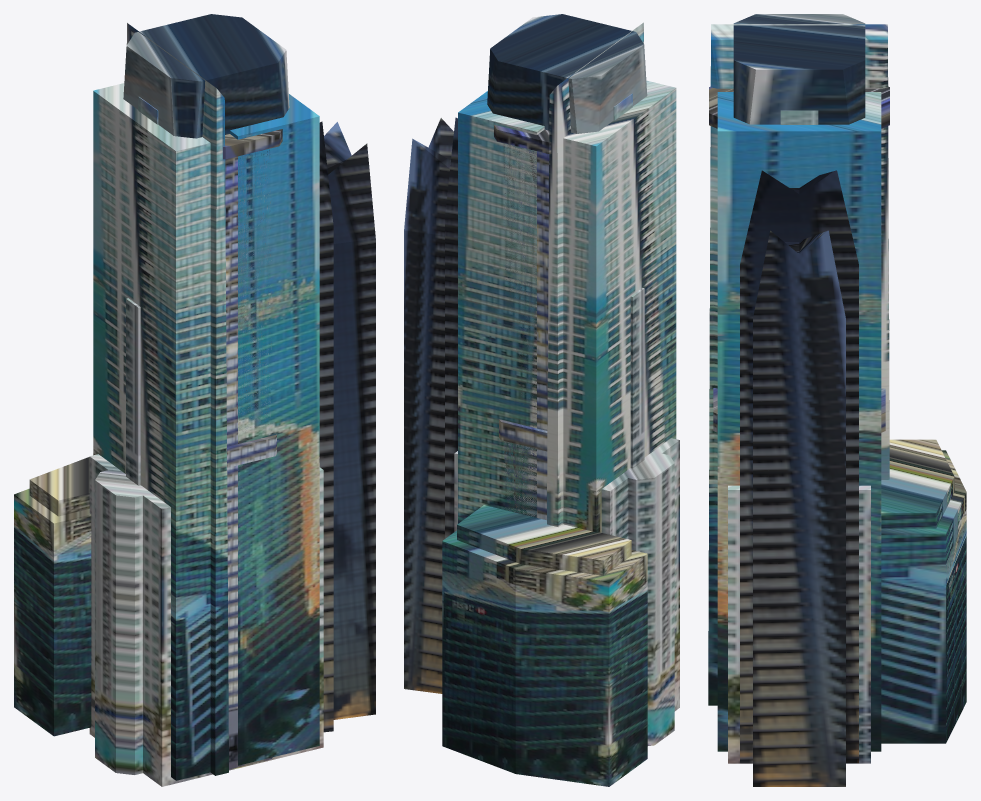
Rendered from bldg.fbx.
3 renders of one model, left to right at view 1: azimuth 30°, elevation 25°; view 2: azimuth 150°, elevation 25°; view 3: azimuth 270°, elevation 25°, orthographic. The views are drawn at different scales.
Visible parts, largest first — view 1: fourseasons_low, sydney_low, vizcayne_low, museum_low, panotower_low; view 2: fourseasons_low, sydney_low, vizcayne_low, museum_low, panotower_low; view 3: sydney_low, fourseasons_low, museum_low, vizcayne_low, panotower_low.
Boxes of the visible parts, x1,y1,x2,y2 form: fourseasons_low: [14, 23, 319, 780]; sydney_low: [319, 121, 375, 732]; vizcayne_low: [89, 97, 323, 786]; museum_low: [123, 14, 289, 138]; panotower_low: [223, 129, 282, 769]; fourseasons_low: [442, 22, 676, 786]; sydney_low: [404, 117, 457, 693]; vizcayne_low: [454, 93, 679, 745]; museum_low: [487, 14, 647, 133]; panotower_low: [494, 125, 551, 520]; sydney_low: [740, 170, 858, 786]; fourseasons_low: [708, 24, 966, 751]; museum_low: [733, 14, 865, 124]; vizcayne_low: [728, 110, 870, 763]; panotower_low: [709, 86, 889, 432].
Bounding box in the file's own units: 367 × 923 × 316.
